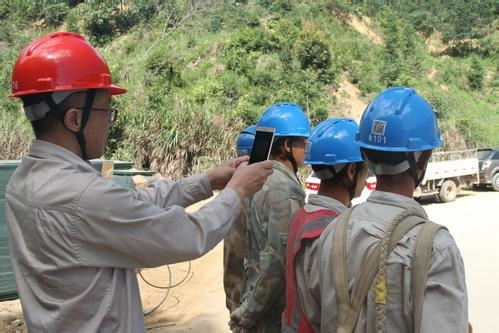blue: (352, 84, 442, 190), (303, 116, 369, 199), (255, 98, 308, 170)
red: (13, 30, 120, 168)
